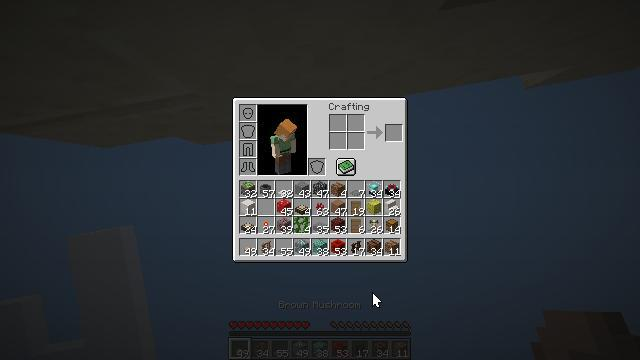cursor: (372, 292, 382, 308)
